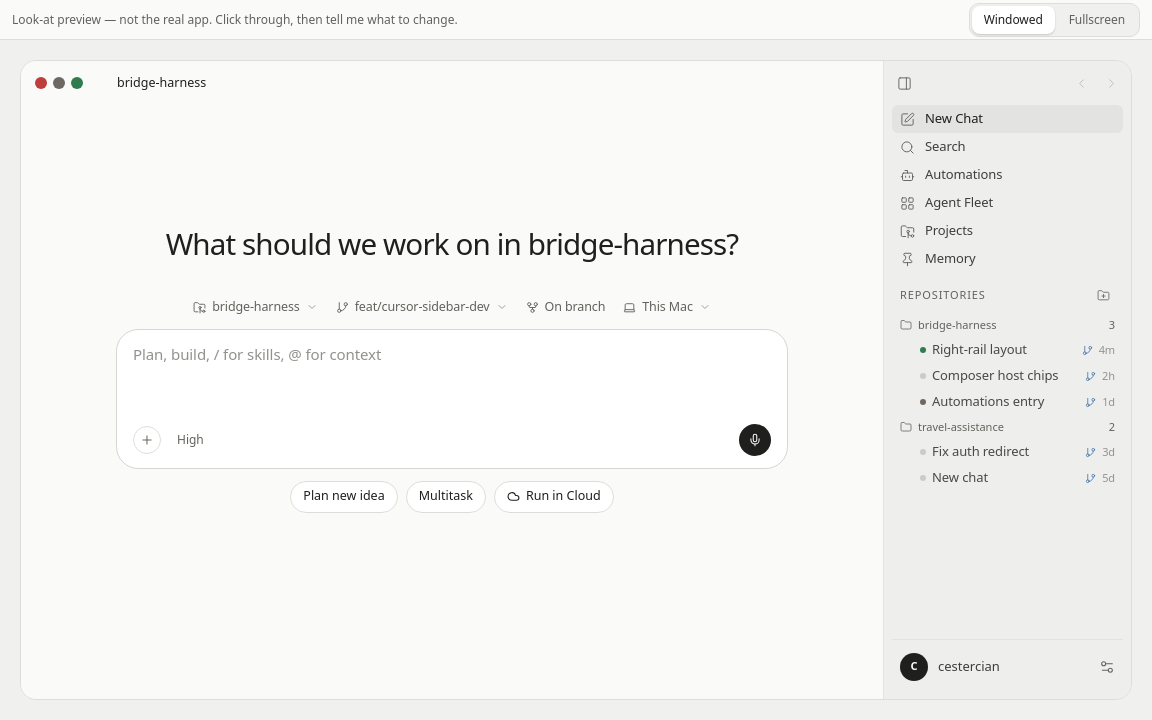
Test case: RightRailPreview › opens Automations only, not Agents
Click the button "Automations" at (1008, 175), box [892,161,1123,189]
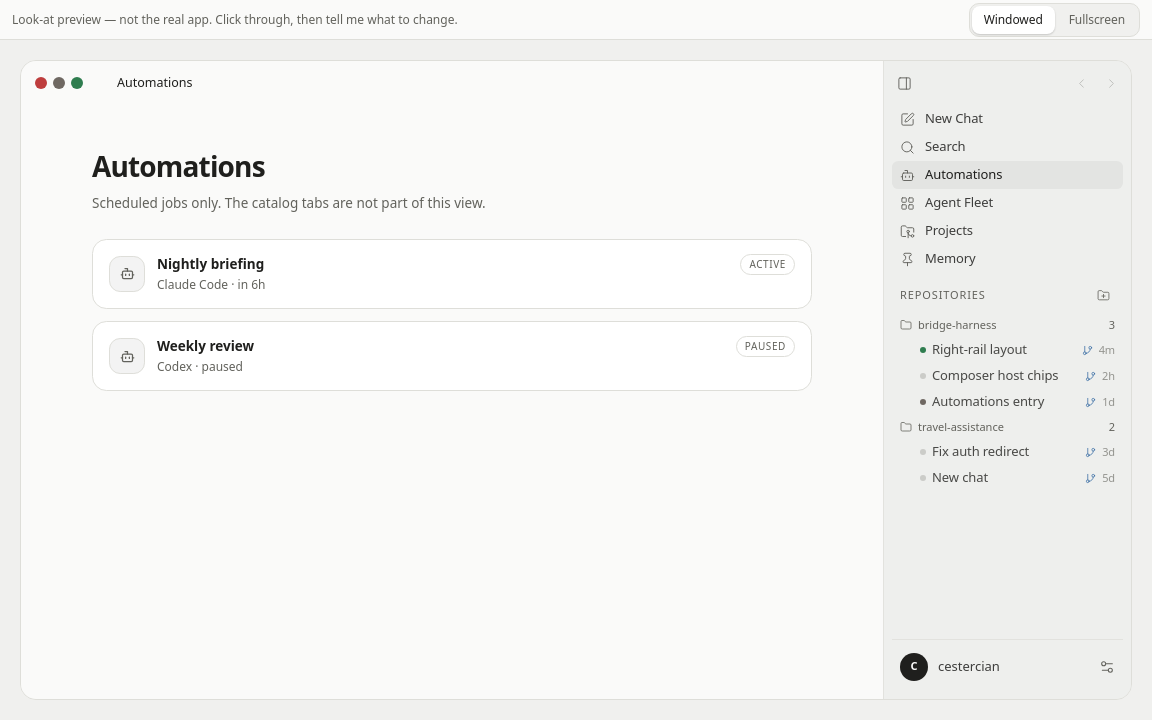
expect the text "Automations" is shown: met, box [117,74,192,91]
expect the text "Scheduled jobs only" is shown: met, box [92,194,486,212]
expect the heading "Automations" is shown: met, box [92,147,265,185]
